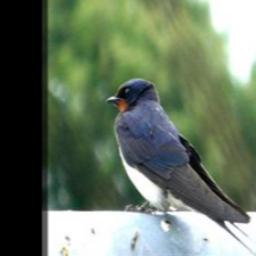Swallow: (106, 77, 256, 256)
